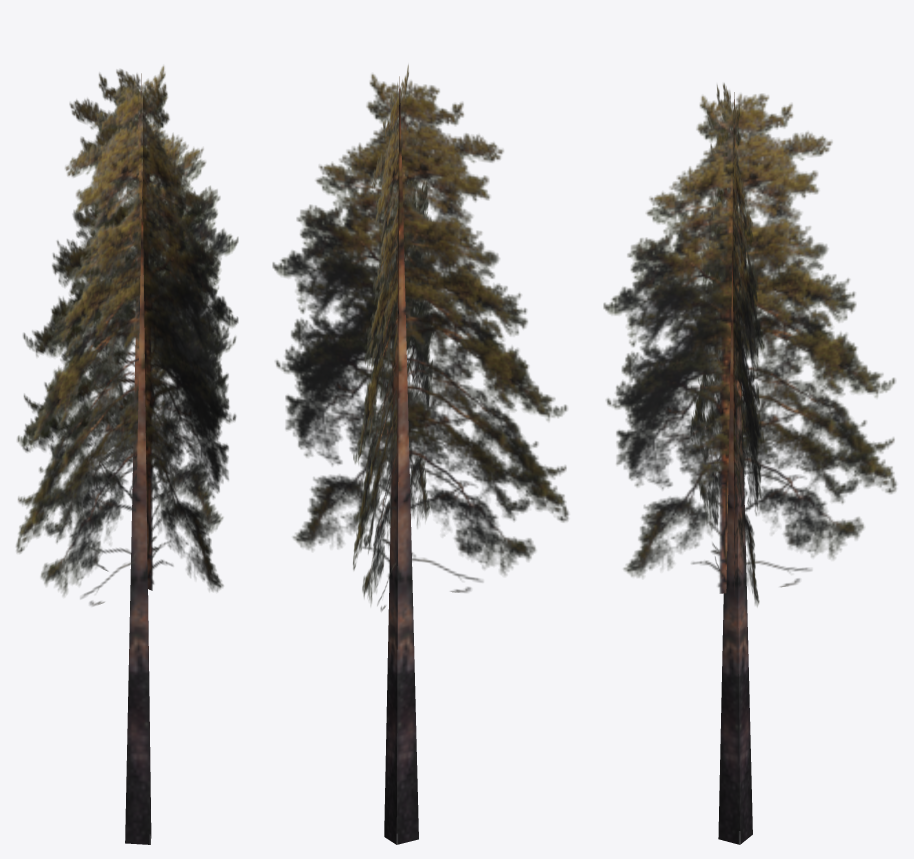
The model's file is TreeType0.glb.
The picture shows the model from 3 angles, left to right: view 1: azimuth 30°, elevation 25°; view 2: azimuth 150°, elevation 25°; view 3: azimuth 270°, elevation 25°; orthographic projection. The views are drawn at different scales.
Visible parts, largest first — view 1: Trees; view 2: Trees; view 3: Trees.
Part boxes in pixels (box(x1,y1,x2,y2)): Trees: box(16, 65, 238, 844); Trees: box(272, 64, 568, 844); Trees: box(603, 83, 896, 844).
Size of the model in its own units: 3.61 by 10.03 by 3.61.
1 material, 1 textured.
